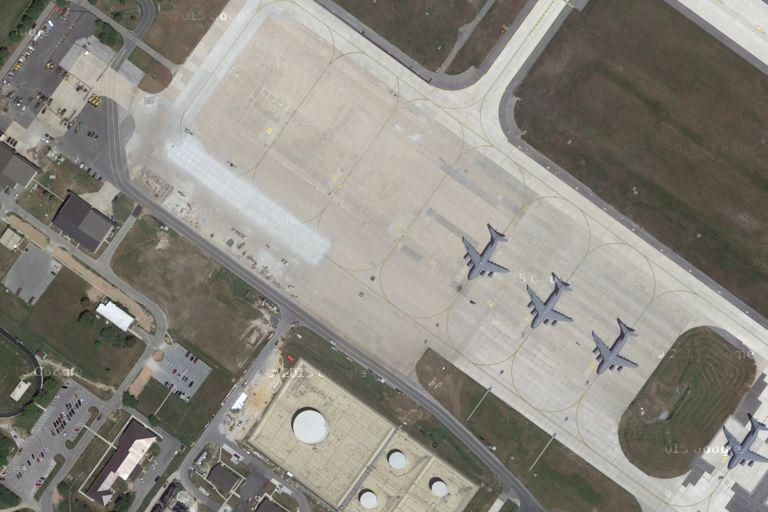C-17: (525, 269, 577, 334), (588, 318, 644, 377), (458, 226, 514, 282), (718, 416, 768, 473)
